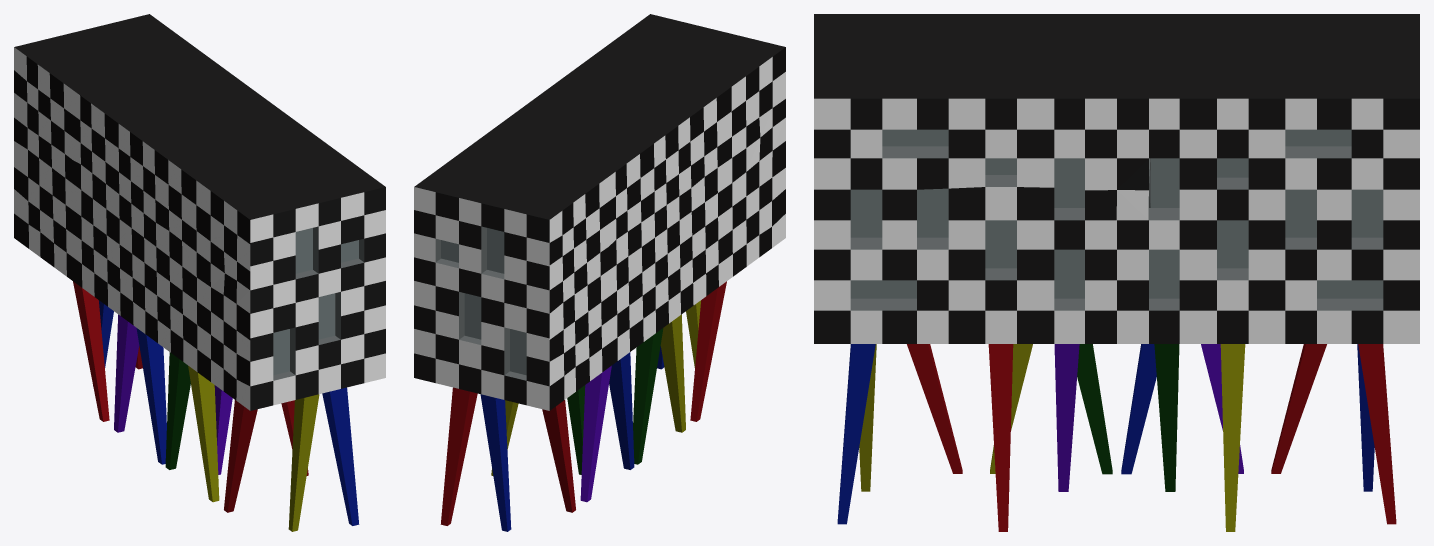
Rendered from OCAD.fbx.
3 renders of one model, left to right at view 1: azimuth 30°, elevation 25°; view 2: azimuth 150°, elevation 25°; view 3: azimuth 270°, elevation 25°, orthographic. The views are drawn at different scales.
Parts seen in each view (by area): view 1: pCube1; view 2: pCube1; view 3: pCube1.
Boxes of the visible parts, x1,y1,x2,y2 form: pCube1: [14, 14, 385, 531]; pCube1: [414, 14, 785, 531]; pCube1: [814, 14, 1419, 531].
Size of the model in its own units: 5.99 by 14.36 by 18.06.
